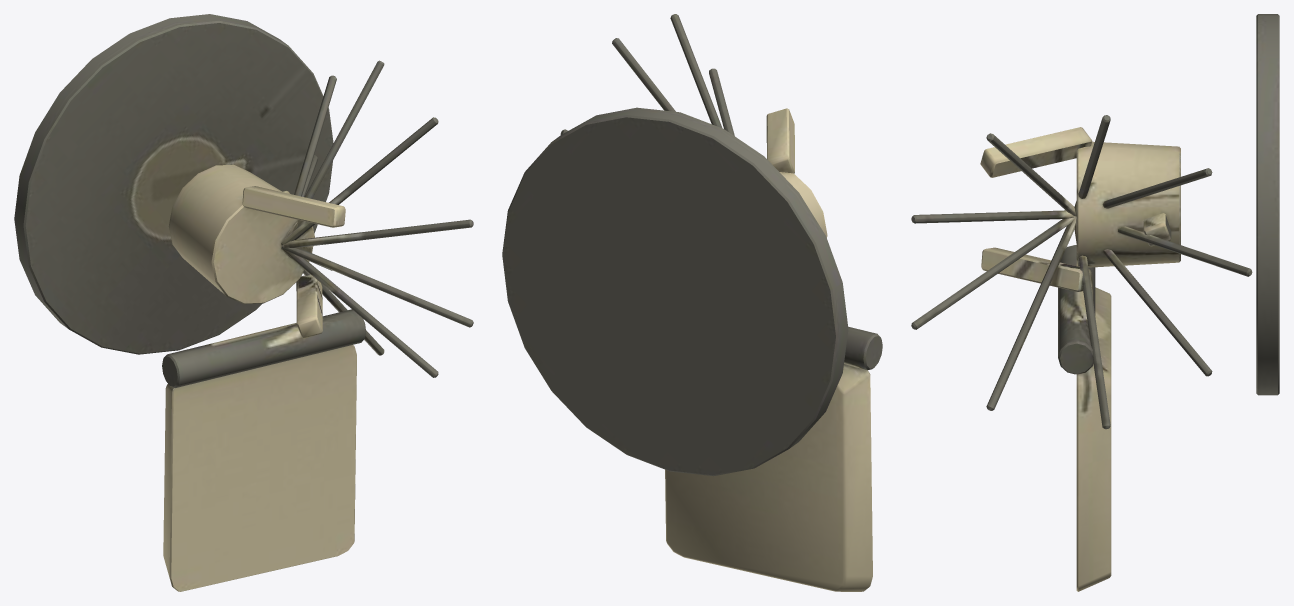
The model's file is LV_desk_fan.glb.
3 views of the same model, side by side, from view 1: azimuth 30°, elevation 25°; view 2: azimuth 150°, elevation 25°; view 3: azimuth 270°, elevation 25° (orthographic). The views are drawn at different scales.
Visible parts, largest first — view 1: LV_desk_fan; view 2: LV_desk_fan; view 3: LV_desk_fan.
Boxes of the visible parts, x1,y1,x2,y2 form: LV_desk_fan: [14, 14, 473, 591]; LV_desk_fan: [502, 14, 882, 591]; LV_desk_fan: [911, 14, 1279, 591].
Size of the model in its own units: 0.33 by 0.4945 by 0.3175.
Materials: 1 (1 with a texture image).
